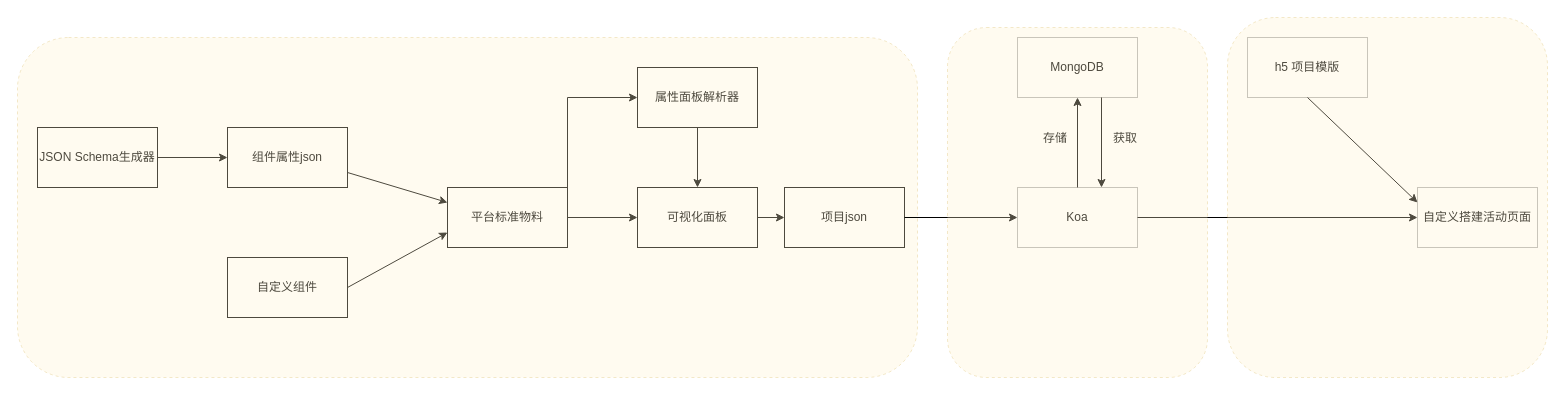
Some shapes in this 1565 by 395 pixel diagram are drawn without their labels. Here are the shapes that lost their labels. From the top down, the centre of each, then its label:
[467,207]: 前端
[1077,202]: 后端
[1387,197]: 展示页
